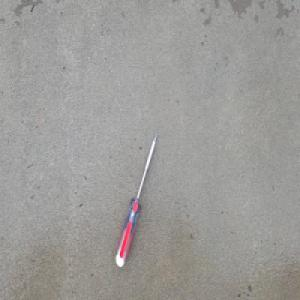Screwdriver: (114, 130, 158, 268)
